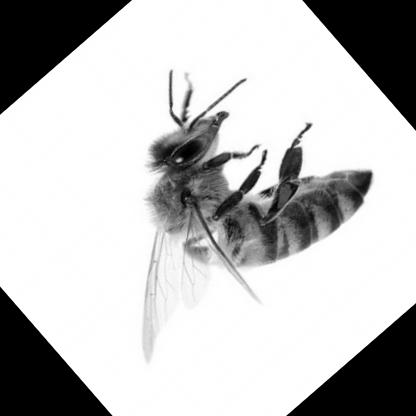other: (3, 0, 398, 388)
